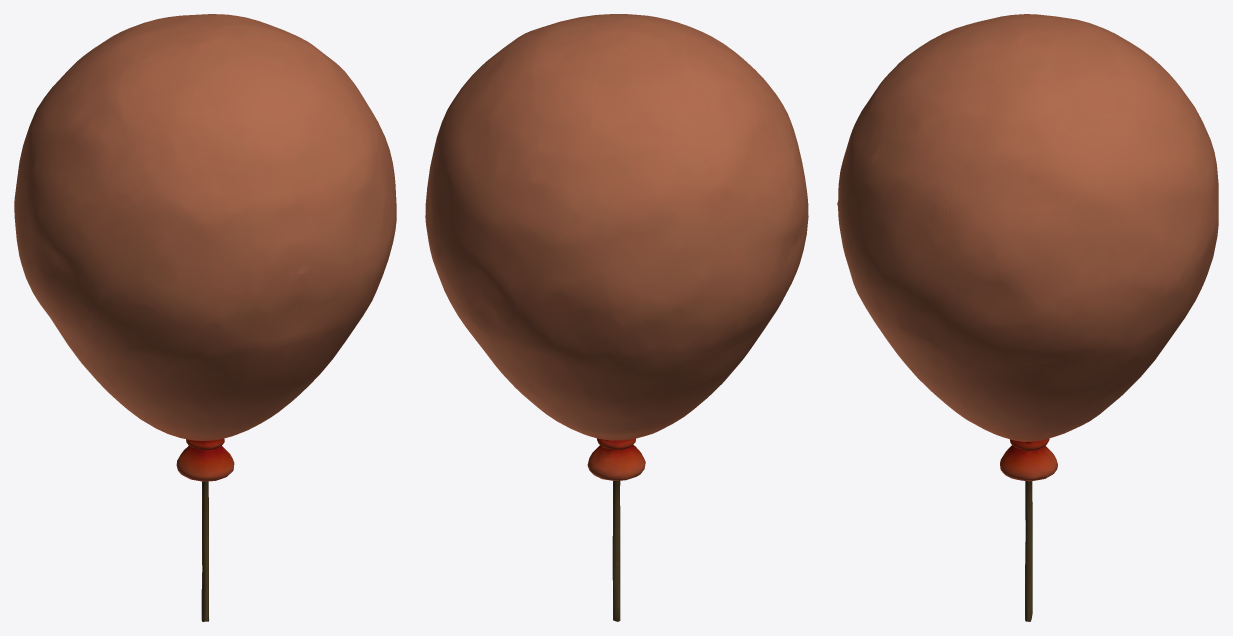
The model's file is balloon.glb.
3 renders of one model, left to right at view 1: azimuth 30°, elevation 25°; view 2: azimuth 150°, elevation 25°; view 3: azimuth 270°, elevation 25°, orthographic.
Parts seen in each view (by area): view 1: tripo_node_71296f51-36dd-4389-989e-78072a9e2932; view 2: tripo_node_71296f51-36dd-4389-989e-78072a9e2932; view 3: tripo_node_71296f51-36dd-4389-989e-78072a9e2932.
Boxes of the visible parts, x1=… form: tripo_node_71296f51-36dd-4389-989e-78072a9e2932: x1=14, y1=14, x2=396, y2=621; tripo_node_71296f51-36dd-4389-989e-78072a9e2932: x1=425, y1=14, x2=808, y2=621; tripo_node_71296f51-36dd-4389-989e-78072a9e2932: x1=837, y1=14, x2=1218, y2=621.
Size of the model in its own units: 0.5948 by 1 by 0.5904.
Materials: 1 (1 with a texture image).
